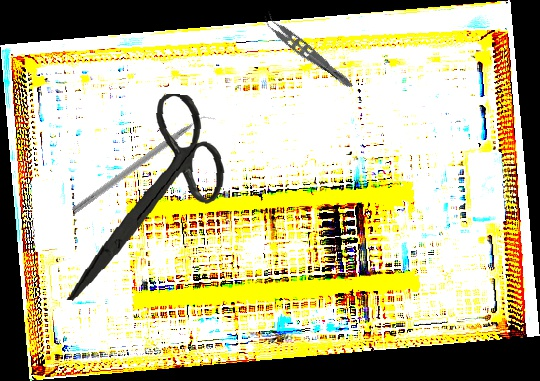Chopper: (71, 108, 218, 222)
Iris Scissors: (64, 87, 231, 311)
Tissue Forceps: (258, 9, 360, 92)
